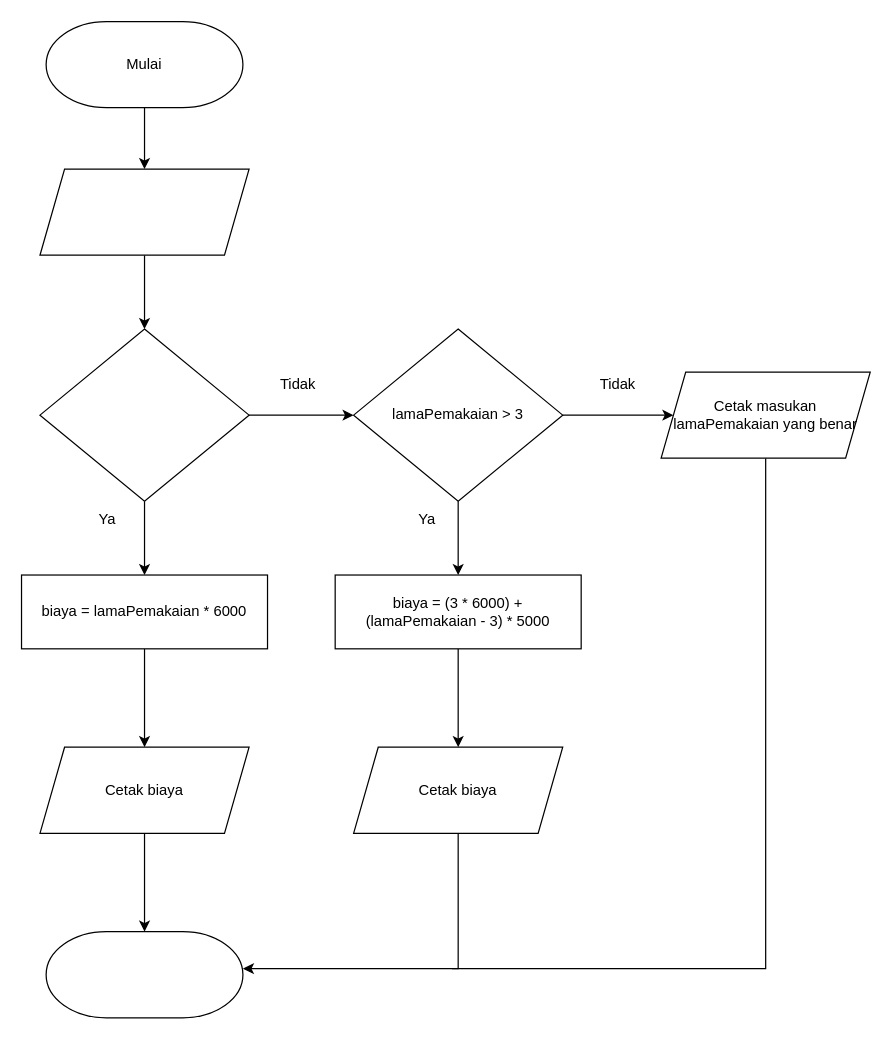
Some shapes in this 892 by 1039 pixel diagram are drawn without their labels. The centre of each missing label's shape, as x and y in pixels:
Input lamaPemakaian: the point at 144,211
lamaPemakaian <= 3: the point at 144,414
Selesai: the point at 144,974
